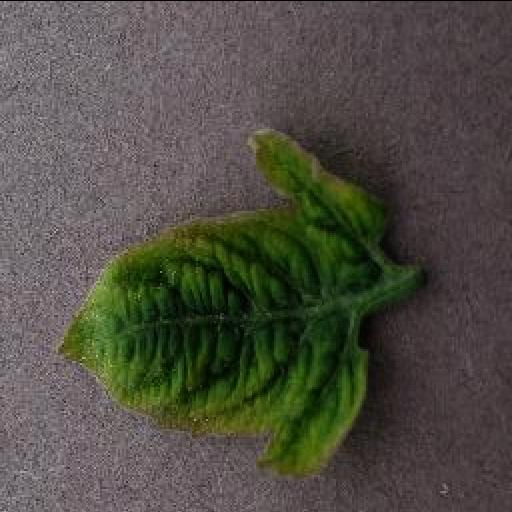disease_tomato: (54, 126, 396, 482)
